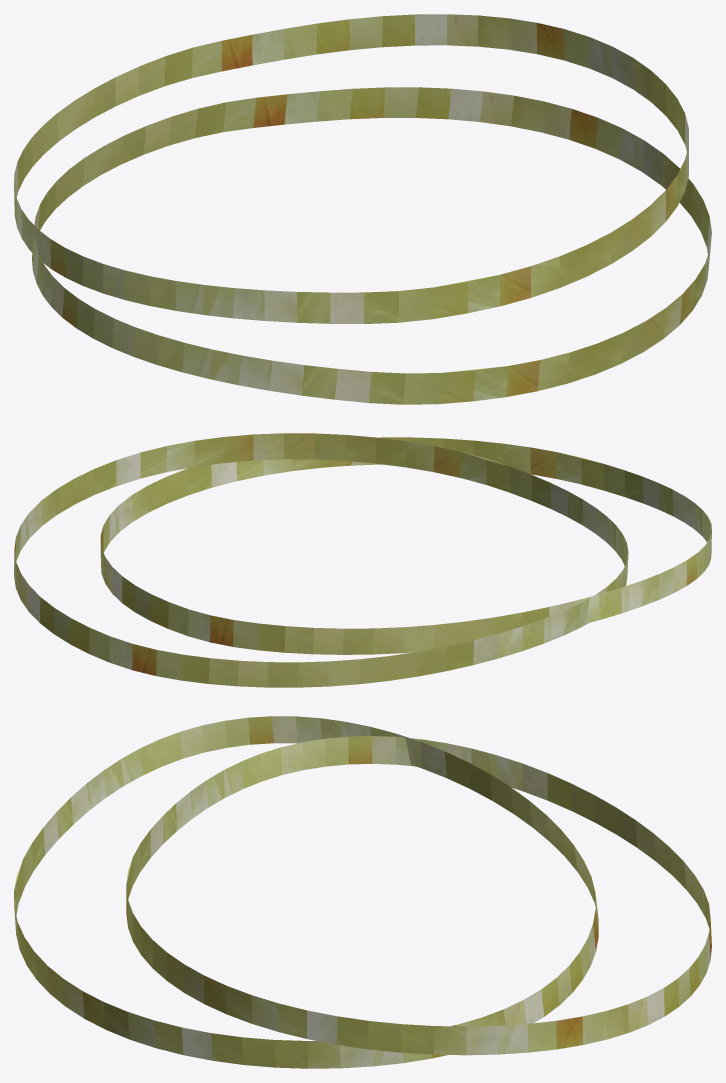
File: bombay sliced glb.glb
3 views of the same model, one above another, from view 1: azimuth 30°, elevation 25°; view 2: azimuth 150°, elevation 25°; view 3: azimuth 270°, elevation 25° (orthographic). The views are drawn at different scales.
Visible parts, largest first — view 1: Circle.001, Circle.002; view 2: Circle.001, Circle.002; view 3: Circle.001, Circle.002.
Part boxes in pixels (x1,y1,x2,y2): Circle.001: [14, 14, 688, 323]; Circle.002: [32, 87, 711, 404]; Circle.001: [14, 433, 628, 687]; Circle.002: [100, 437, 711, 654]; Circle.001: [126, 736, 711, 1055]; Circle.002: [14, 716, 598, 1068].
Bounding box in the file's own units: 1.86 × 0.2291 × 1.84.
Materials: 1 (1 with a texture image).
